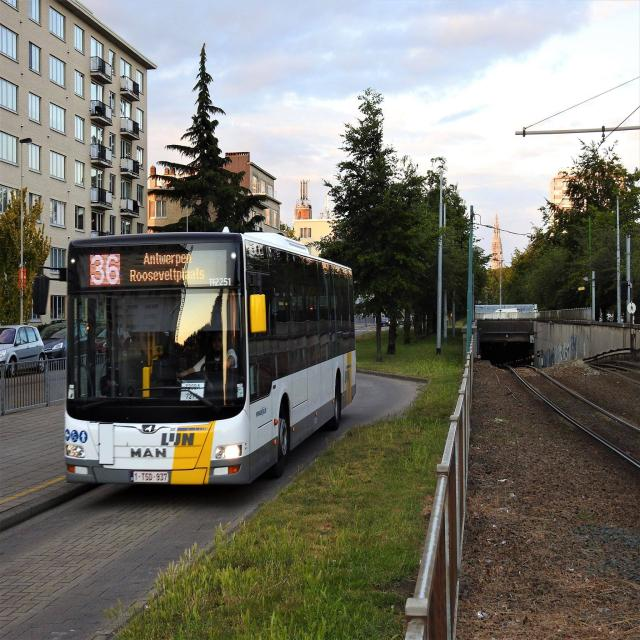bus-number: (89, 252, 122, 288)
